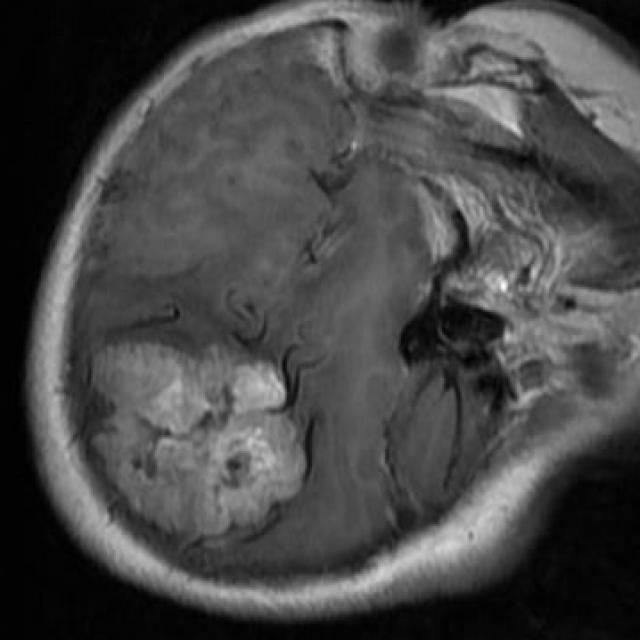meningioma: (96, 344, 305, 537)
